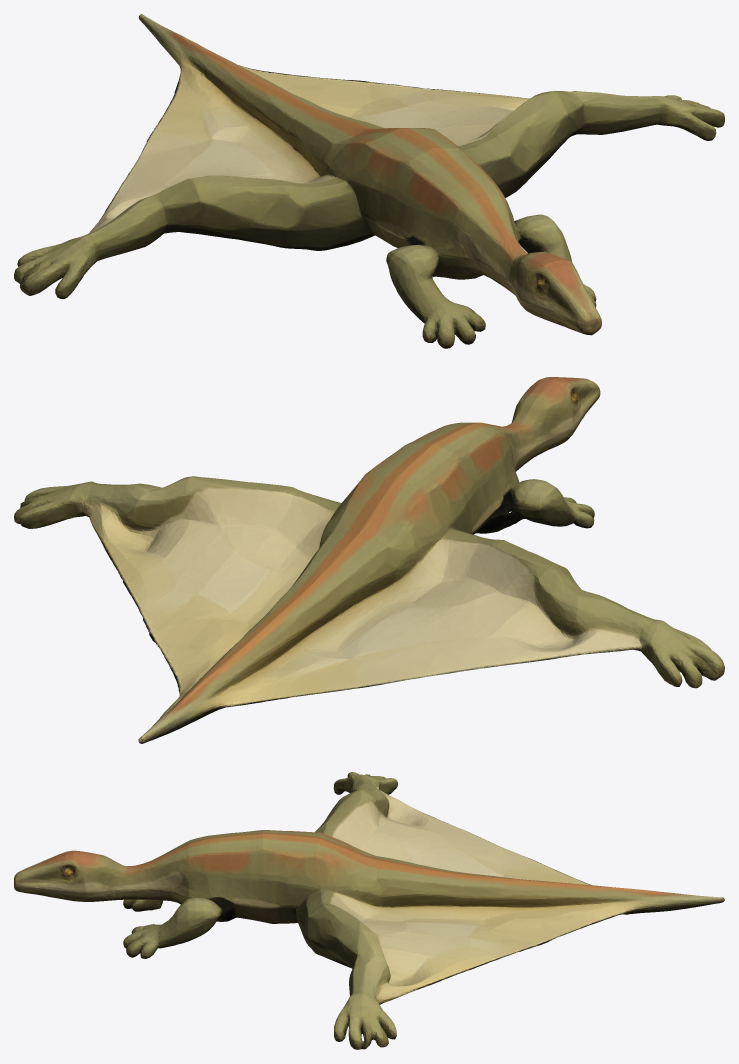
3 views of the same model, one above another, from view 1: azimuth 30°, elevation 25°; view 2: azimuth 150°, elevation 25°; view 3: azimuth 270°, elevation 25° (orthographic). The views are drawn at different scales.
Visible parts, largest first — view 1: world; view 2: world; view 3: world.
Part boxes in pixels (left/top/right/bottom): world: left=14, top=14, right=724, bottom=348; world: left=14, top=377, right=724, bottom=743; world: left=14, top=772, right=724, bottom=1049.
Size of the model in its own units: 0.8932 by 0.1484 by 1.
Materials: 1 (1 with a texture image).
